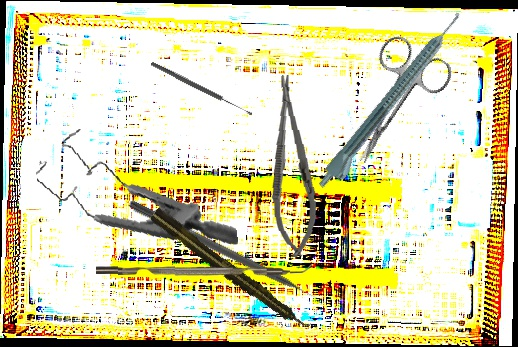Chopper: (95, 256, 313, 278)
Handpiece: (314, 8, 473, 198), (148, 206, 314, 336)
Iris Scissors: (327, 30, 457, 180)
Needle Holder: (263, 73, 321, 259)
Pusher: (126, 198, 329, 310)
Speculum: (30, 107, 239, 274)
Surgical Spoon: (149, 60, 254, 118)
